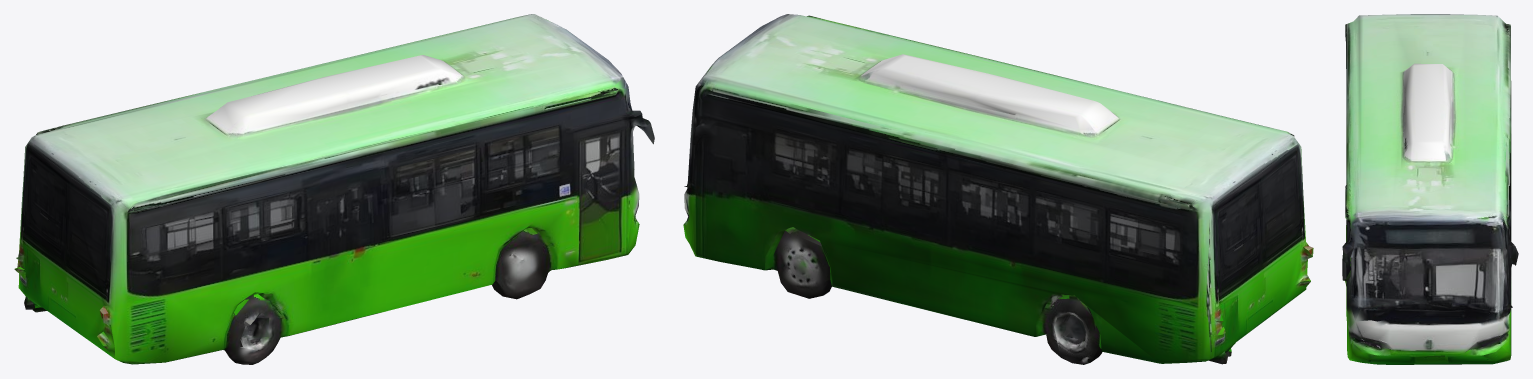
File: bus.glb
3 views of the same model, side by side, from view 1: azimuth 30°, elevation 25°; view 2: azimuth 150°, elevation 25°; view 3: azimuth 270°, elevation 25° (orthographic). The views are drawn at different scales.
Visible parts, largest first — view 1: bus; view 2: bus; view 3: bus.
Boxes of the visible parts, <box> form: bus: <box>14,14,654,364</box>; bus: <box>683,14,1313,364</box>; bus: <box>1342,14,1518,364</box>.
Bounding box in the file's own units: 1.01 × 0.3764 × 0.3423.
Materials: 1 (1 with a texture image).
